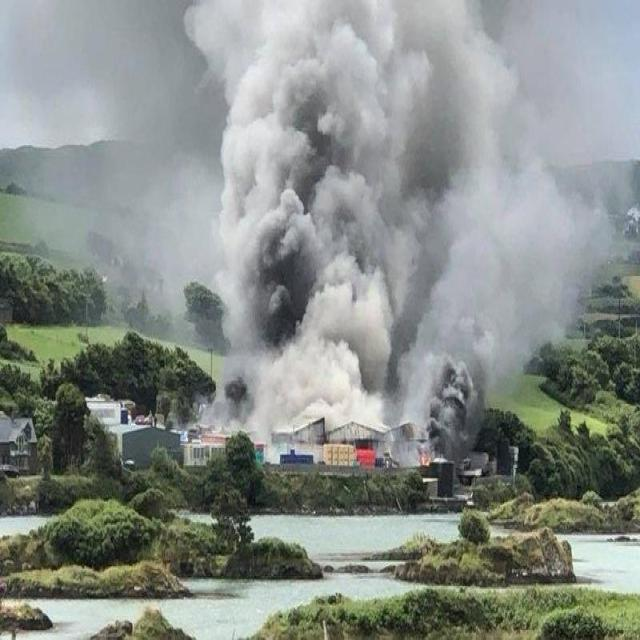Smoke: (141, 1, 633, 461)
